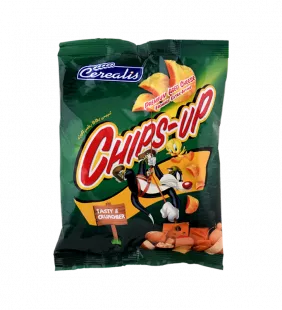CHIPS'UP: (44, 29, 236, 276)
